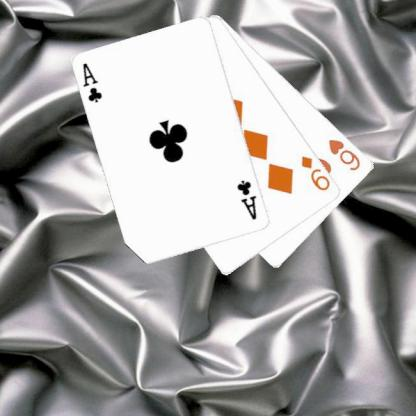6H: (326, 136, 362, 172)
9D: (298, 153, 332, 193)
AC: (234, 178, 259, 222), (80, 60, 104, 104)
